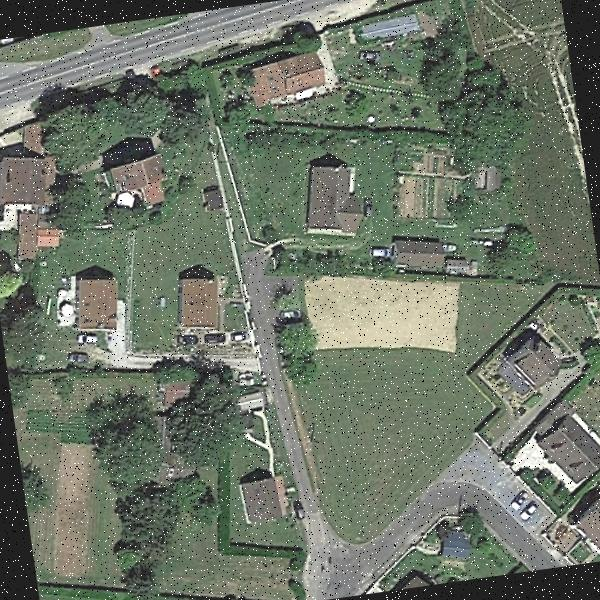Buildings: (0, 150, 61, 260), (247, 46, 323, 104), (534, 413, 600, 478), (502, 326, 562, 388), (300, 168, 362, 228), (63, 278, 118, 332), (238, 478, 292, 532), (176, 277, 220, 331), (568, 490, 600, 564), (109, 163, 161, 204), (392, 238, 446, 270)
